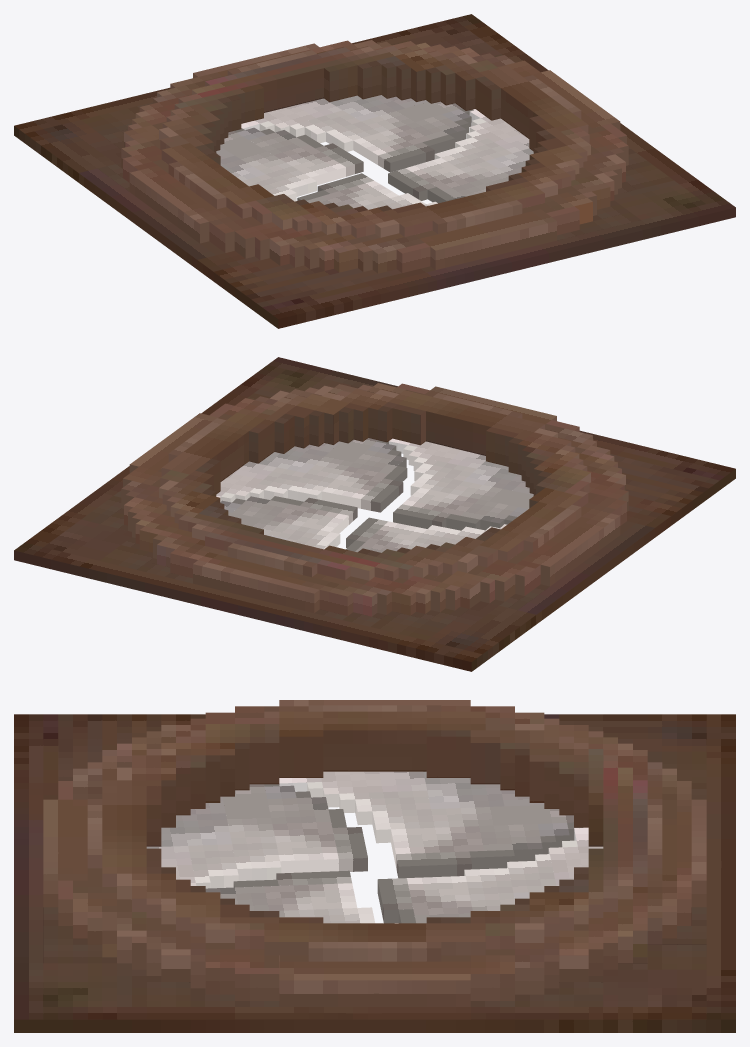
The model's file is trap-17.glb.
3 renders of one model, top to bottom at view 1: azimuth 30°, elevation 25°; view 2: azimuth 150°, elevation 25°; view 3: azimuth 270°, elevation 25°, orthographic. The views are drawn at different scales.
Visible parts, largest first — view 1: base-Local; view 2: base-Local; view 3: base-Local.
Boxes of the visible parts, x1,y1,x2,y2 form: base-Local: [14, 14, 735, 328]; base-Local: [14, 357, 735, 671]; base-Local: [14, 700, 735, 1032].
Bounding box in the file's own units: 1 × 0.0837 × 1.
2 materials, 2 textured.
